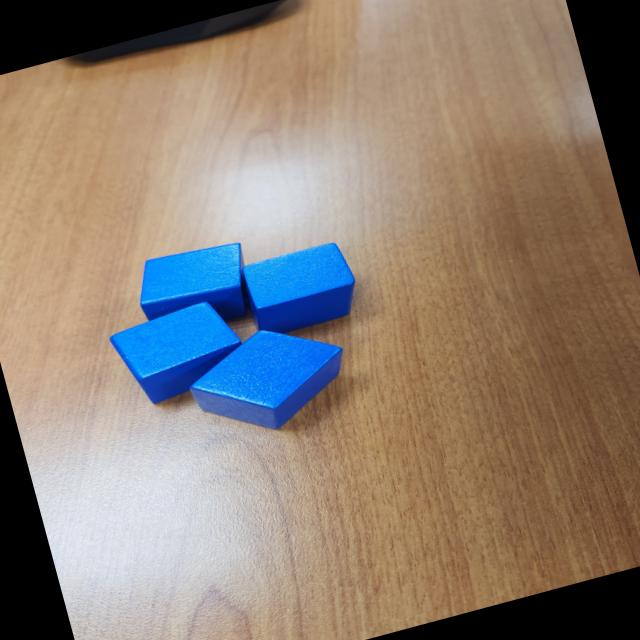blue: (178, 309, 360, 448), (105, 292, 252, 412), (128, 234, 262, 343), (236, 237, 364, 342)
